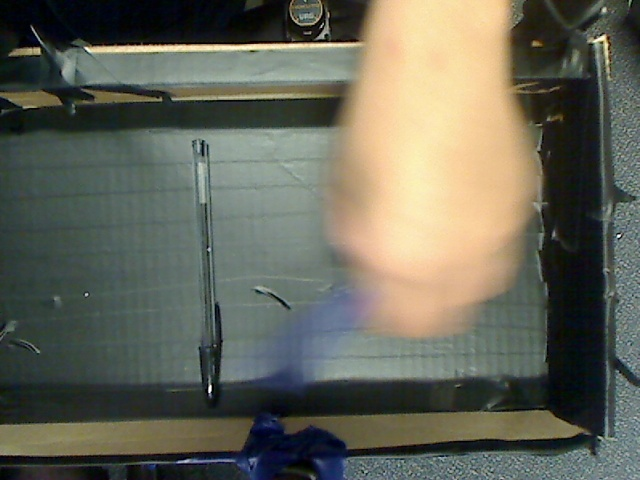pen: (168, 130, 234, 412)
